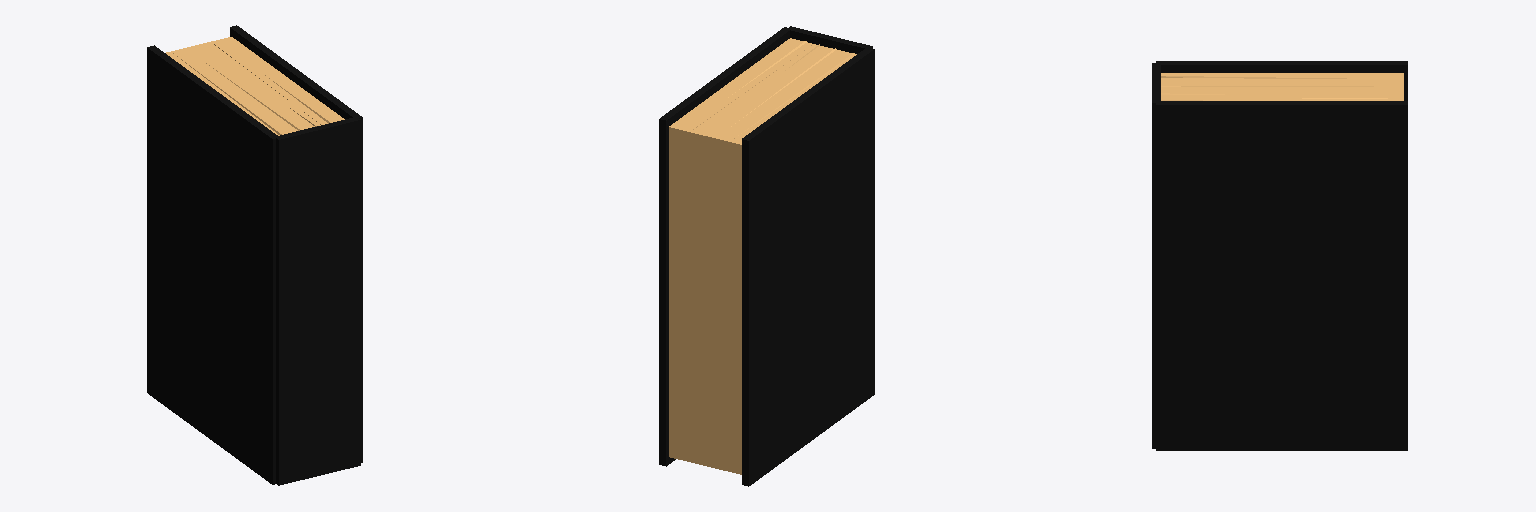
Rendered from book.obj.
3 views of the same model, side by side, from view 1: azimuth 30°, elevation 25°; view 2: azimuth 150°, elevation 25°; view 3: azimuth 270°, elevation 25° (orthographic).
Parts seen in each view (by area): view 1: group[number redacted], group[number redacted], group[number redacted], group[number redacted]; view 2: group[number redacted], group[number redacted], group[number redacted], group[number redacted]; view 3: group[number redacted], group[number redacted], group[number redacted], group[number redacted].
Part boxes in pixels (x1,y1,x2,y2): group[number redacted]: (147, 45, 277, 484); group[number redacted]: (275, 117, 360, 485); group[number redacted]: (166, 37, 344, 135); group[number redacted]: (230, 25, 362, 462); group[number redacted]: (742, 48, 874, 486); group[number redacted]: (669, 38, 856, 474); group[number redacted]: (659, 27, 789, 466); group[number redacted]: (787, 26, 872, 53); group[number redacted]: (1156, 101, 1407, 450); group[number redacted]: (1161, 73, 1403, 100); group[number redacted]: (1156, 61, 1407, 100); group[number redacted]: (1152, 63, 1160, 448).
Bounding box in the file's own units: 0.12 × 0.44 × 0.295.